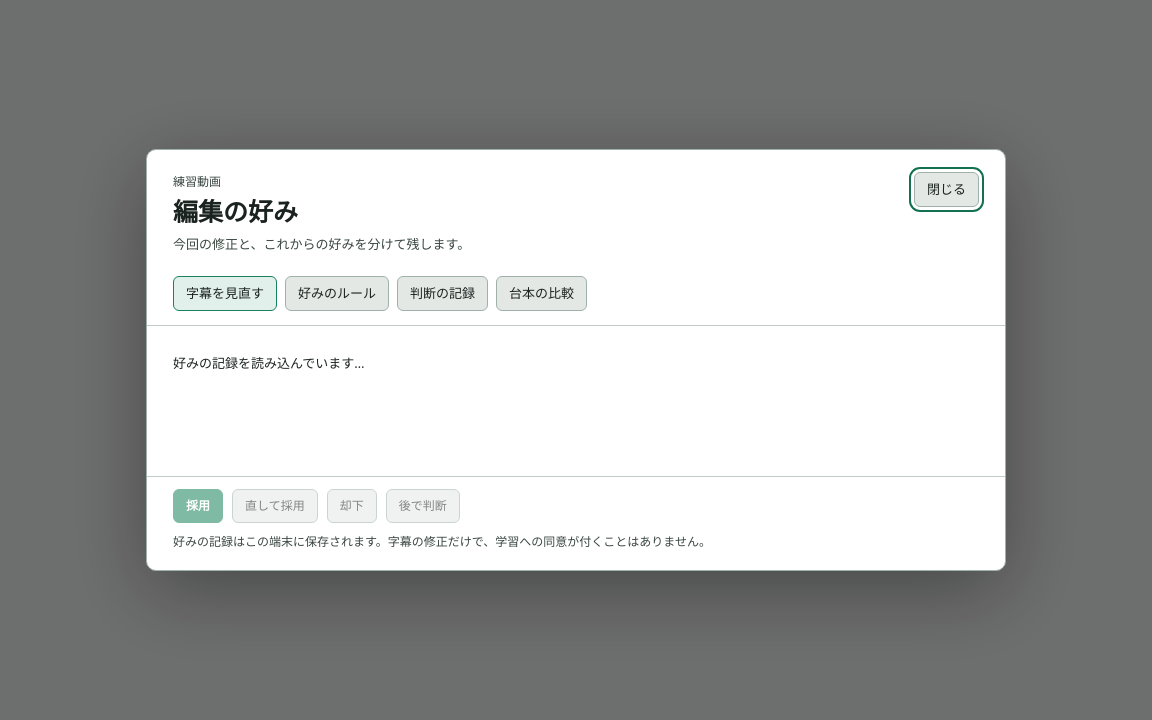
Test: 実例から明示する語句条件 › 語句ルールの条件・全出現置換・除外を表示し、全文一致とは説明しない
The image size is (1152, 720).
Click the button "好みのルール".
click(337, 294)  # box [285,276,389,311]
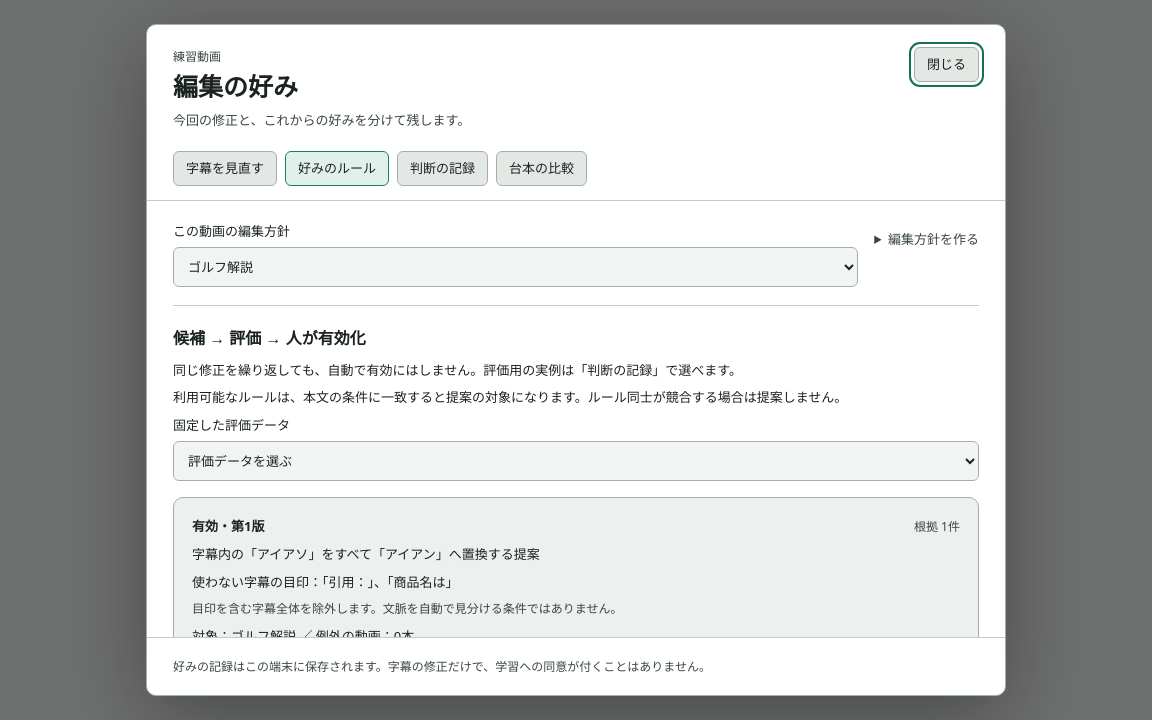
Expected: the heading "候補 → 評価 → 人が有効化" is shown, [173,327,366,349]
Expected: the text "字幕内の「アイアソ」をすべて「アイアン」へ置換する提案" is shown, [192,545,540,563]
Expected: the text "使わない字幕の目印：「引用：」、「商品名は」" is shown, [192,573,458,591]
